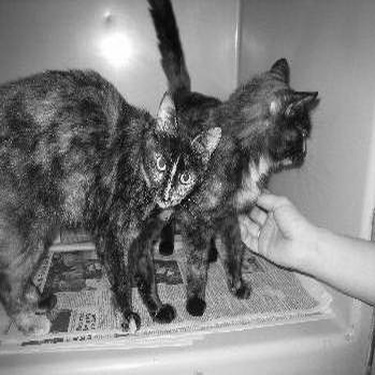cat: (3, 48, 219, 354), (155, 1, 325, 309)
